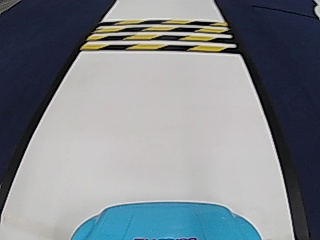bump: (103, 18, 223, 55)
